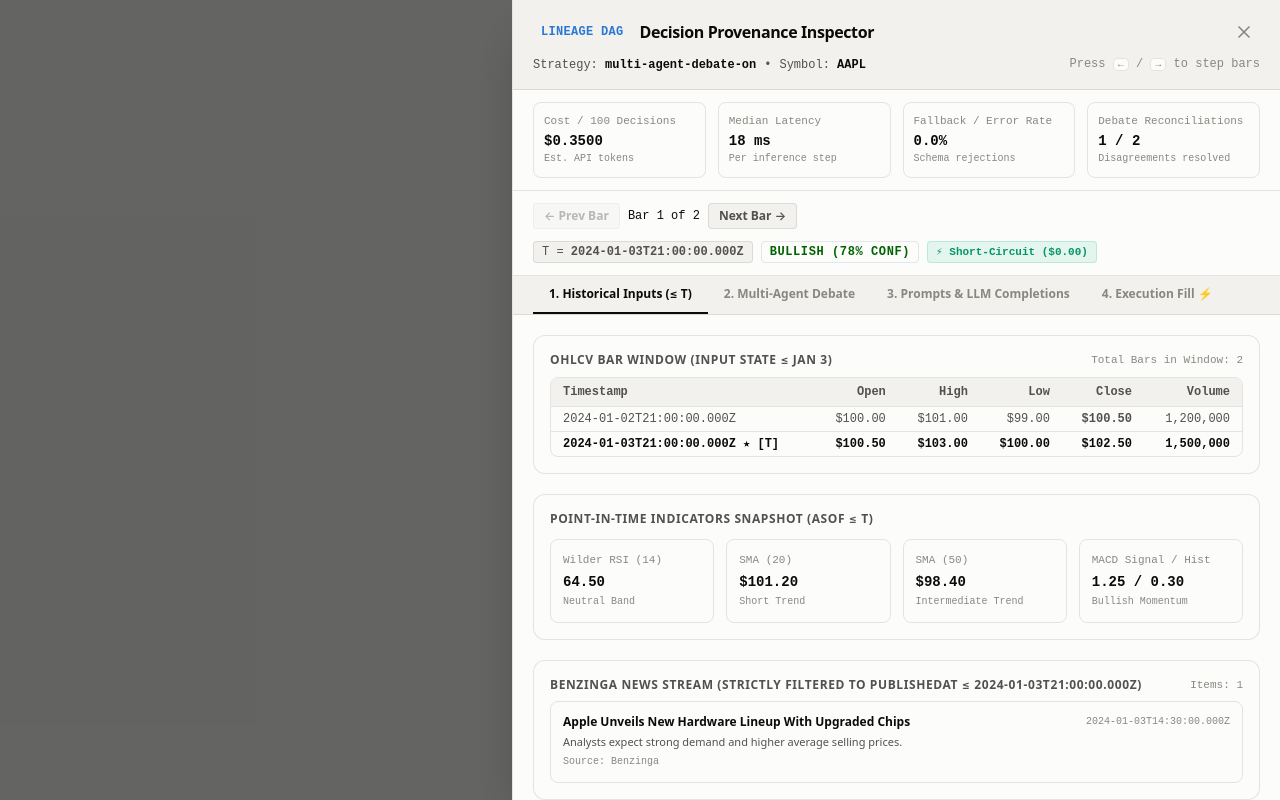
Test: Decision Lineage DAG Inspector & Telemetry HUD › displays exact Prompts and raw completions with copy capability in Prompts tab
The width and height of the screenshot is (1280, 800).
# Switch to Tab 3: Prompts & LLM Completions
Click the button "3. Prompts & LLM Completions".
click(978, 295)  # box [871, 276, 1086, 314]
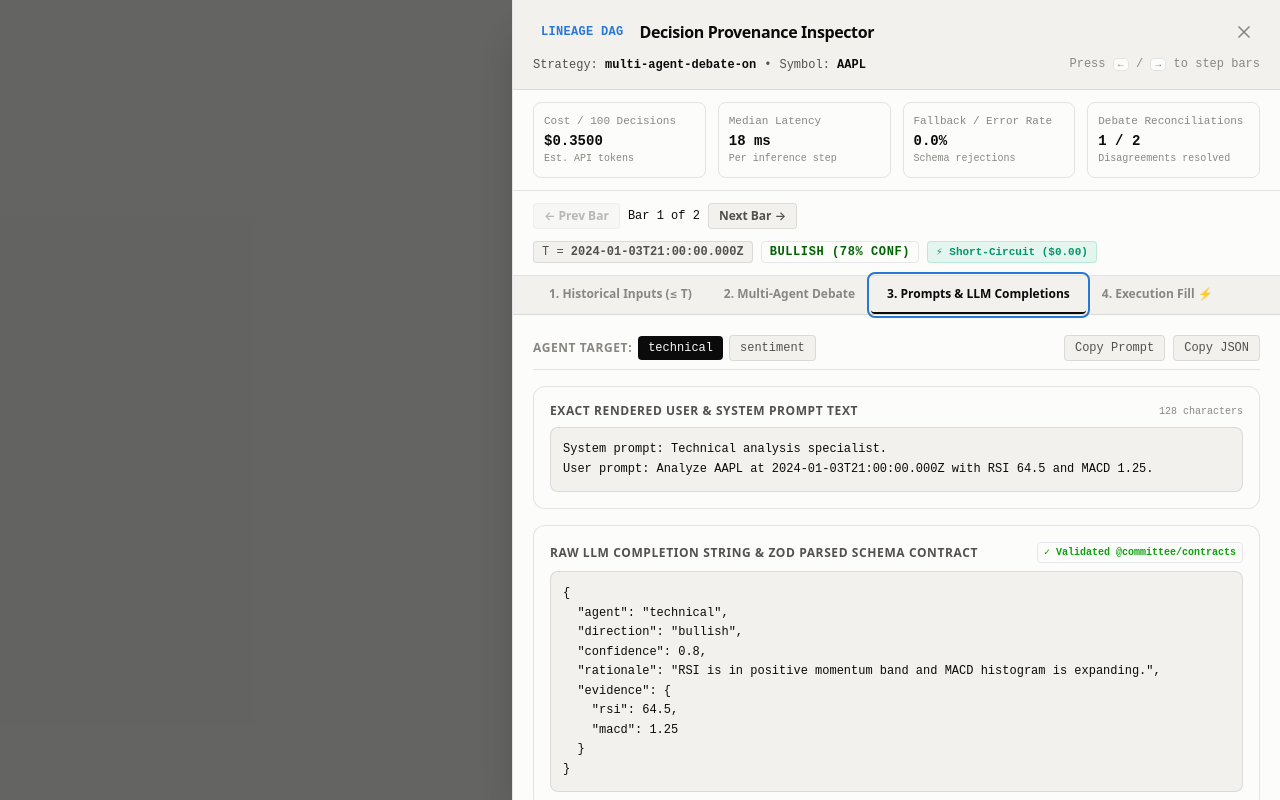
expect the heading "Exact Rendered User & System Prompt Text" is shown: met, box [550, 403, 858, 419]
expect the text "System prompt: Technical analysis specialist" is shown: met, box [563, 442, 1154, 476]
expect the heading "Raw LLM Completion String & Zod Parsed Schema Contract" is shown: met, box [550, 544, 978, 560]
# Switch agent target to sentiment
Click the button "sentiment".
click(772, 348)  # box [729, 335, 816, 361]
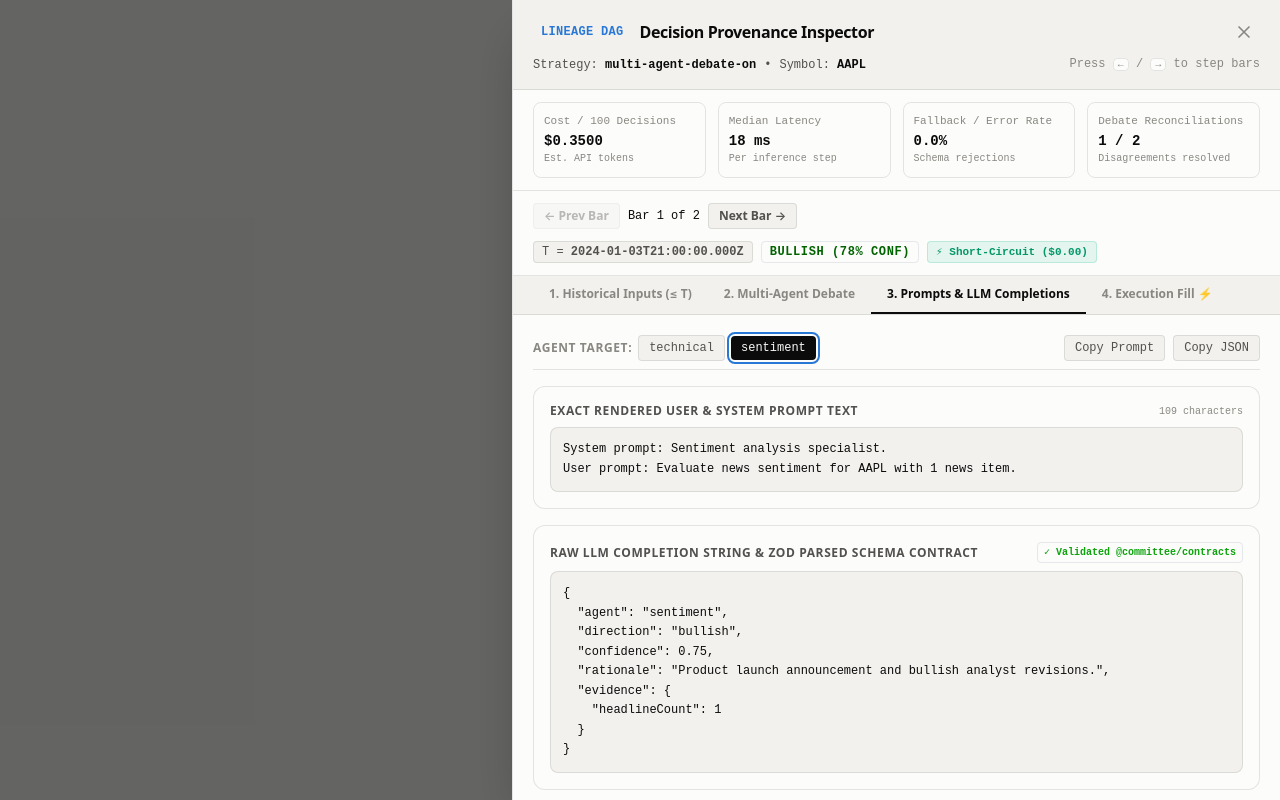
expect the text "System prompt: Sentiment analysis specialist" is shown: met, box [563, 442, 1017, 476]
